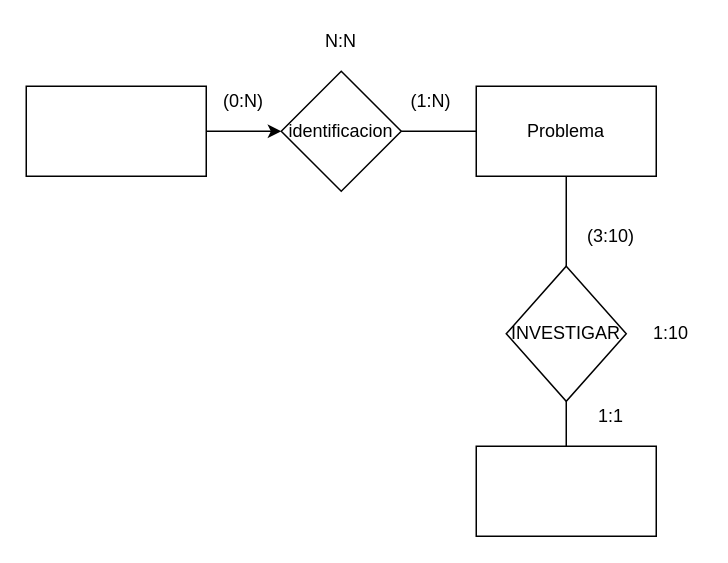
Image size: 728x563. Some labels were removed from this diagram. The shapes that lost their labels are listed below. From the top down, each one's box as (x1, y1, x2, y2) in pixels, then its label:
(25, 85, 206, 176): Pais
(475, 445, 656, 536): Equipo
